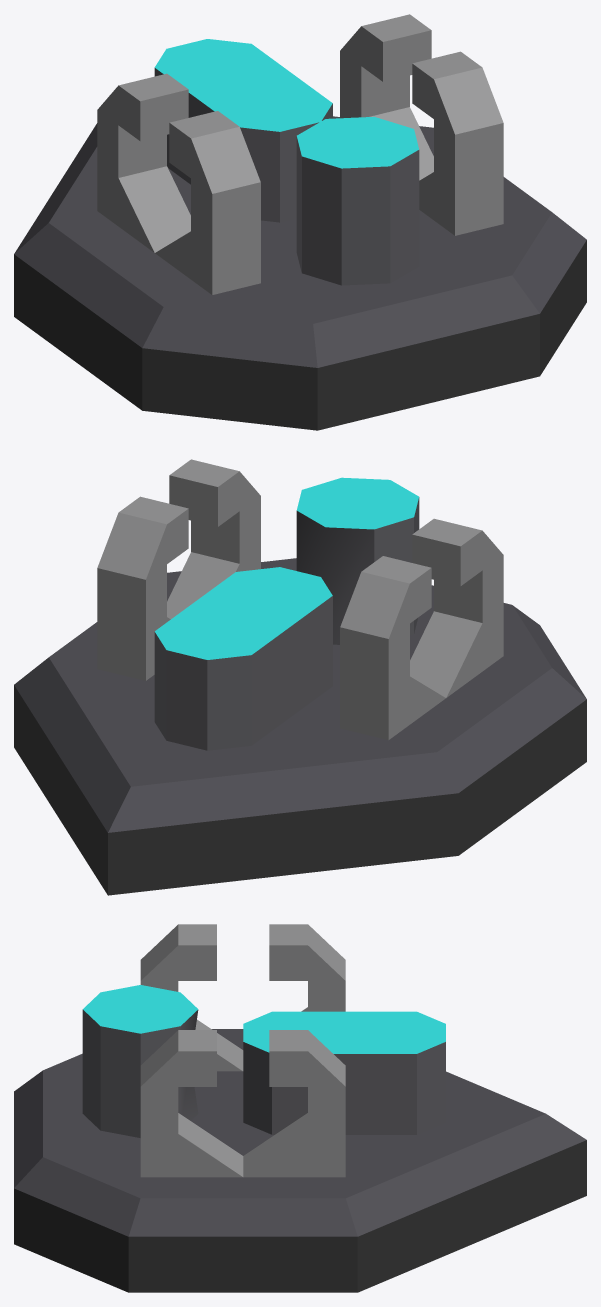
File: Msh_Socket_XMale.FBX
3 views of the same model, one above another, from view 1: azimuth 30°, elevation 25°; view 2: azimuth 150°, elevation 25°; view 3: azimuth 270°, elevation 25° (orthographic). The views are drawn at different scales.
Parts seen in each view (by area): view 1: Msh_Socket_MaleXLow; view 2: Msh_Socket_MaleXLow; view 3: Msh_Socket_MaleXLow.
Part boxes in pixels (bbox=[...]): Msh_Socket_MaleXLow: bbox=[14, 14, 586, 430]; Msh_Socket_MaleXLow: bbox=[14, 459, 586, 895]; Msh_Socket_MaleXLow: bbox=[14, 924, 586, 1292].
Size of the model in its own units: 0.0201 by 0.0252 by 0.0101.
